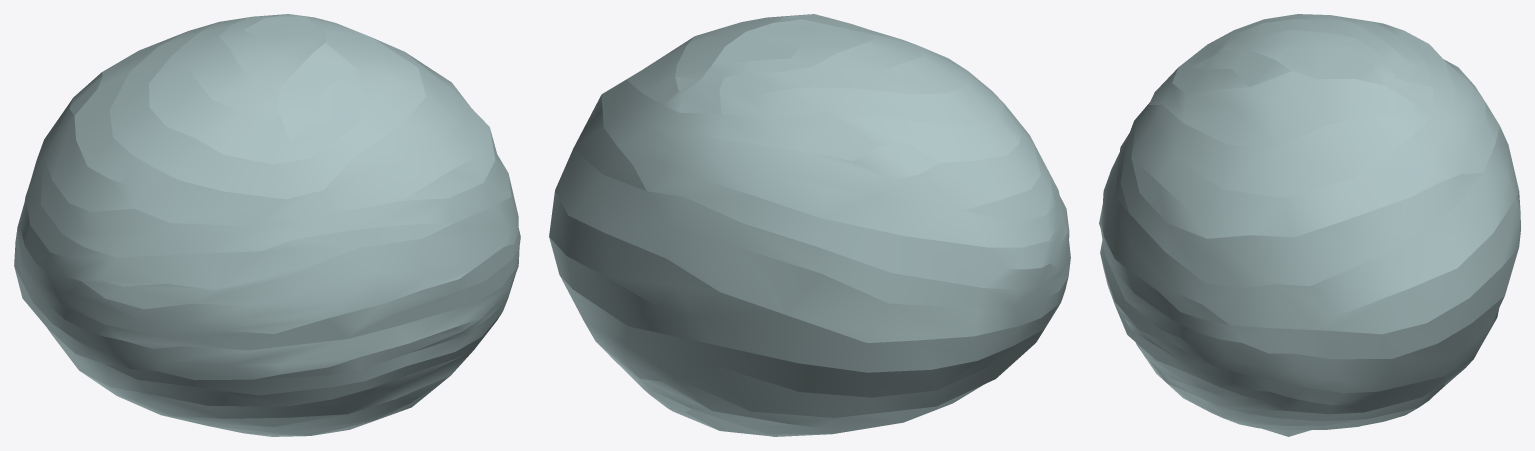
The model's file is rock_round_A.fbx.
The picture shows the model from 3 angles, left to right: view 1: azimuth 30°, elevation 25°; view 2: azimuth 150°, elevation 25°; view 3: azimuth 270°, elevation 25°; orthographic projection. The views are drawn at different scales.
Visible parts, largest first — view 1: rock_round_A; view 2: rock_round_A; view 3: rock_round_A.
Boxes of the visible parts, x1,y1,x2,y2 form: rock_round_A: (14, 14, 520, 436); rock_round_A: (549, 14, 1070, 436); rock_round_A: (1099, 14, 1520, 436).
Size of the model in its own units: 204 by 159 by 174.
